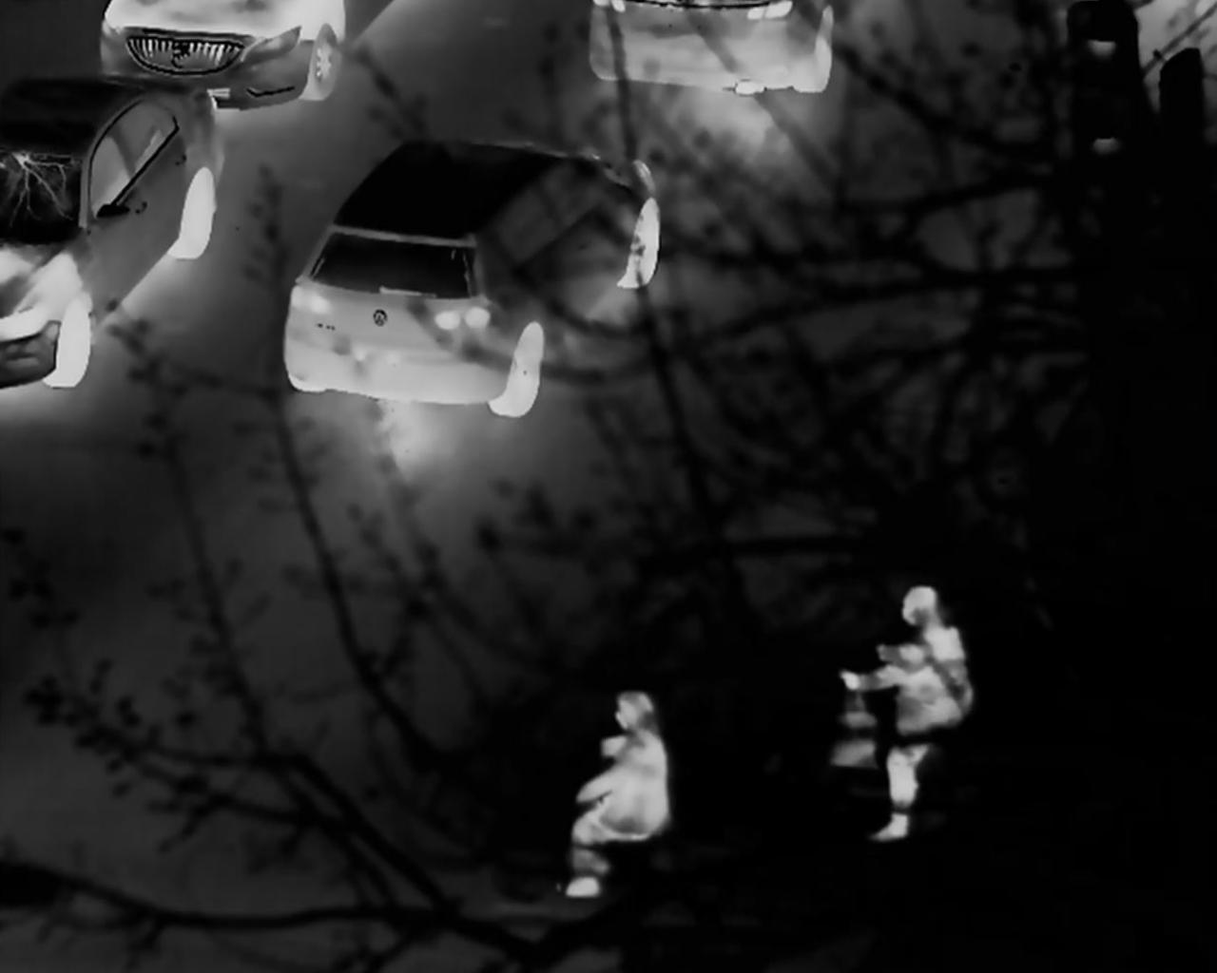person: (822, 580, 978, 854), (578, 687, 669, 875)
